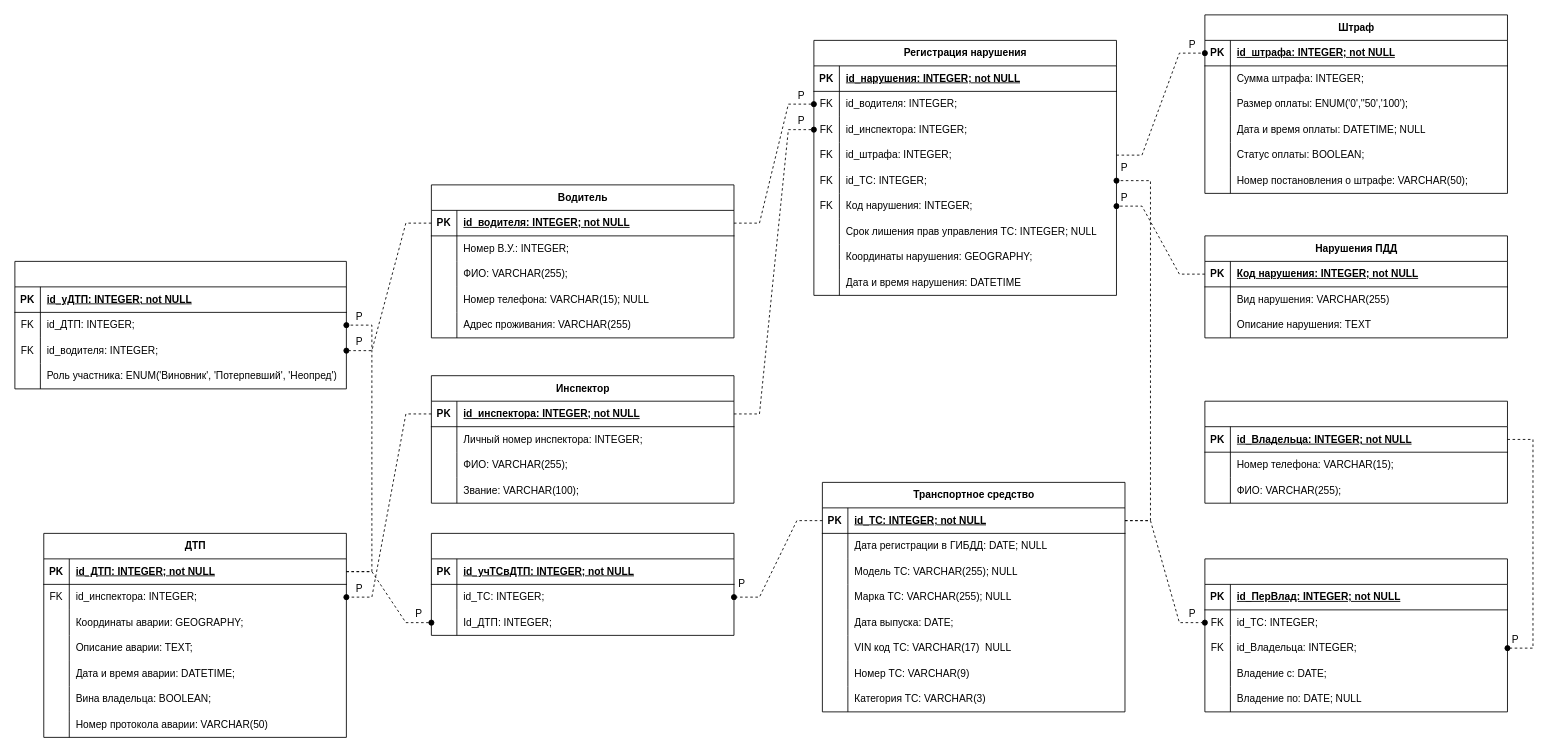
Image size: 1555x752. Some labels were removed from this diagram. The box of each missing label's shape, as (x1, y1, x2, y2) in pixels:
Владелец: (1204, 400, 1507, 503)
Период владения: (1204, 558, 1507, 712)
ТС участвовавшие в ДТП: (431, 533, 734, 635)
Участник ДТП: (14, 261, 346, 389)
